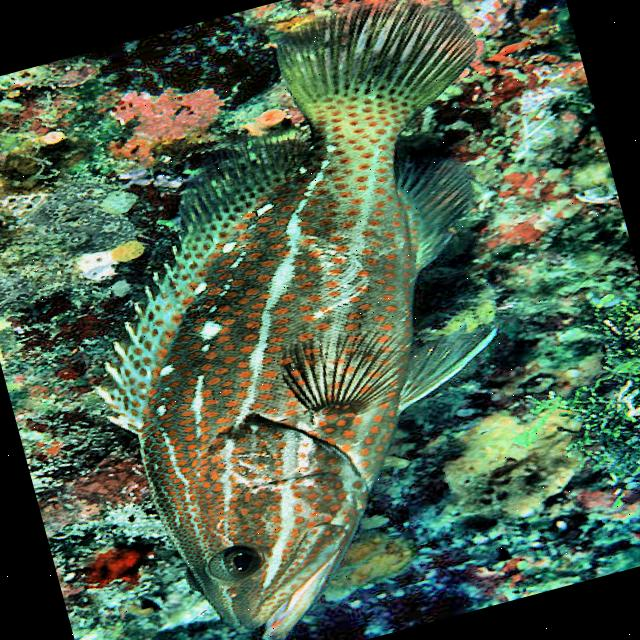fish: (13, 0, 618, 640)
